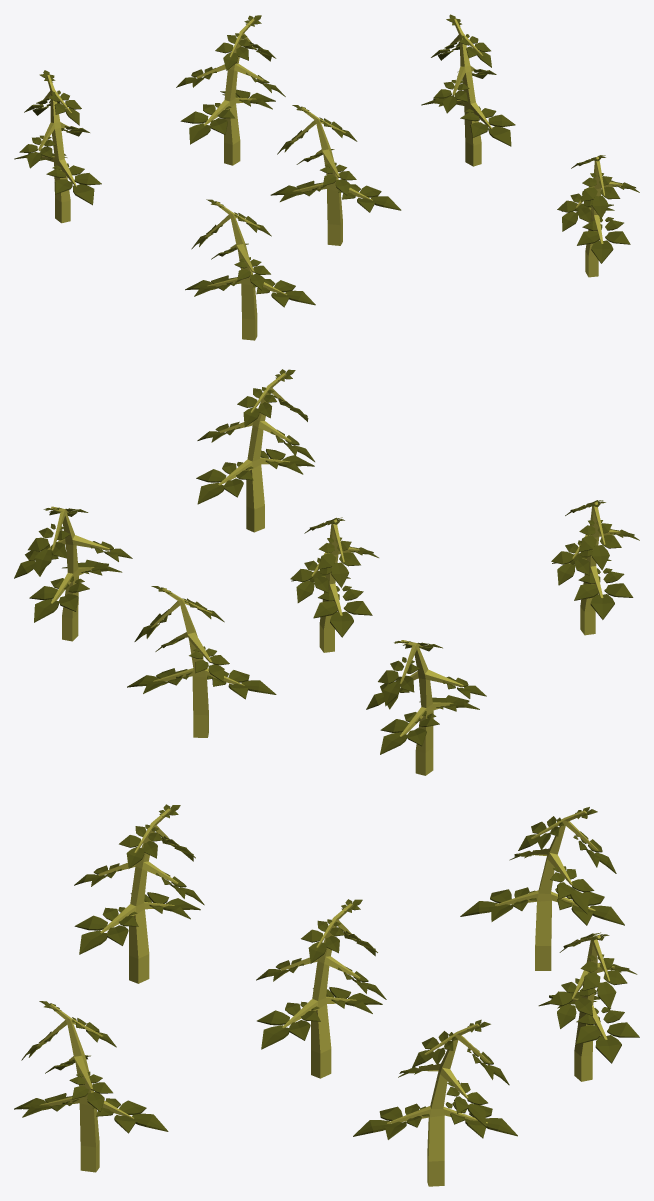
The model's file is Potato3.fbx.
The picture shows the model from 3 angles, top to bottom: view 1: azimuth 30°, elevation 25°; view 2: azimuth 150°, elevation 25°; view 3: azimuth 270°, elevation 25°; orthographic projection. The views are drawn at different scales.
Parts seen in each view (by area): view 1: 3; view 2: 3; view 3: 3.
Part boxes in pixels (x1,y1,x2,y2): 3: [14, 14, 639, 340]; 3: [14, 369, 639, 775]; 3: [14, 804, 639, 1186].
Size of the model in its own units: 61.94 by 17.71 by 62.88.
